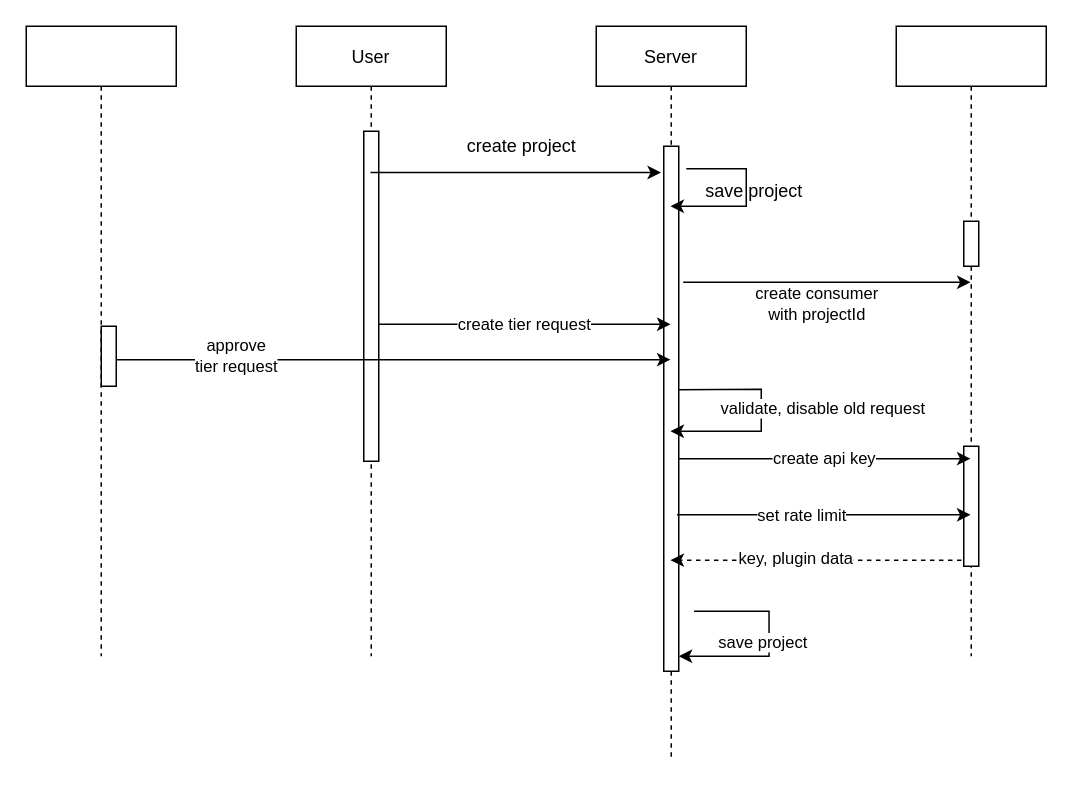
Some shapes in this 1073 by 788 pixel diagram are drawn without their labels. Here are the shapes that lost their labels. From the top down, the box of each, then its label:
(25, 25, 176, 656): Admin
(895, 25, 1046, 656): Kong
